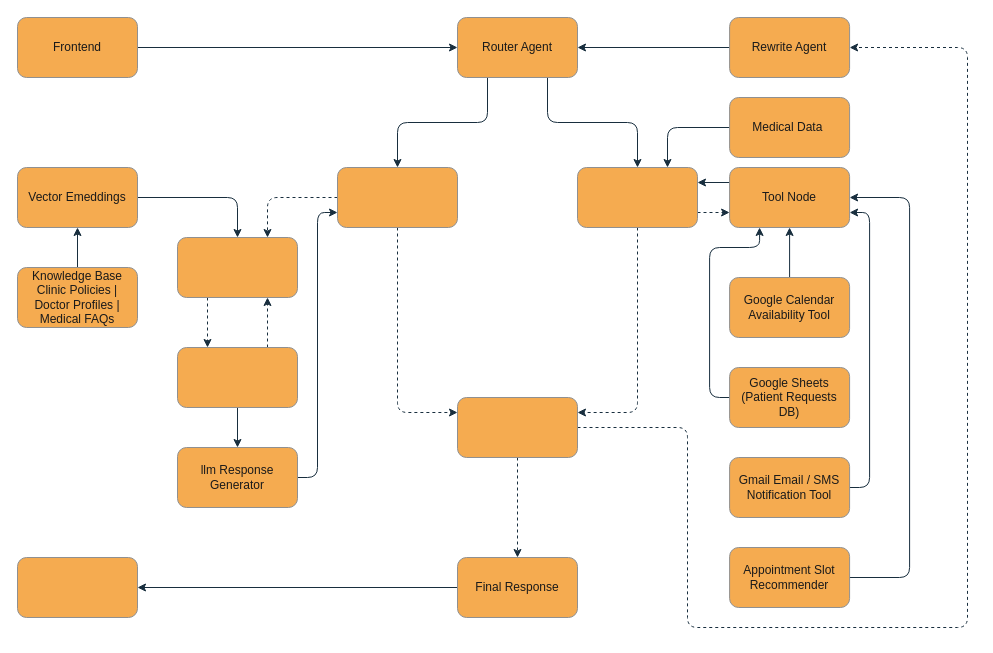
Image size: 993x653. Some labels were removed from this diagram. The centre of each missing label's shape, as x and y in pixels:
Appointment Scheduler Agent: pixel 637 197
Context Retriever: pixel 237 377
Doctor Agent: pixel 397 197
Guardrail Check: pixel 517 427
Output Shown on Chat Bubble: pixel 77 587
Vector Store: pixel 237 267
